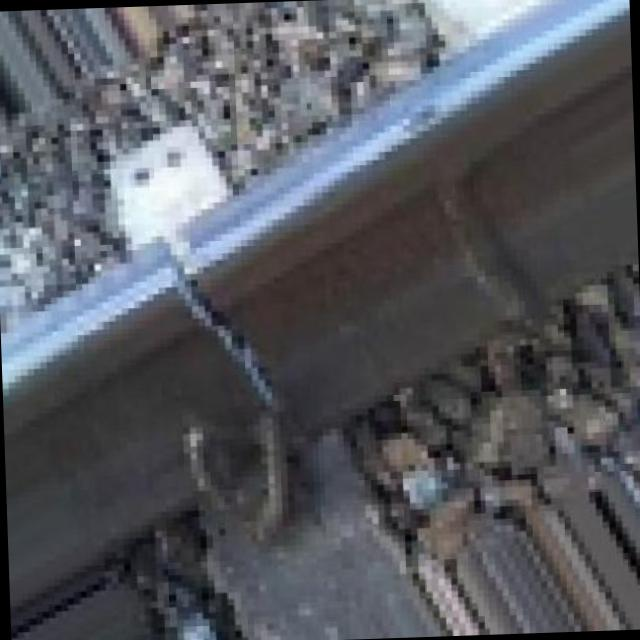defective: (0, 90, 458, 625)
